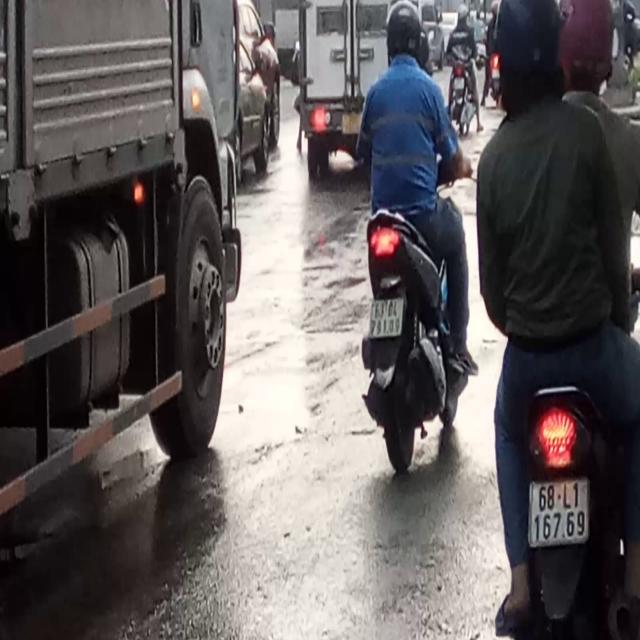bien_trang: (528, 473, 588, 550), (367, 295, 402, 337)
